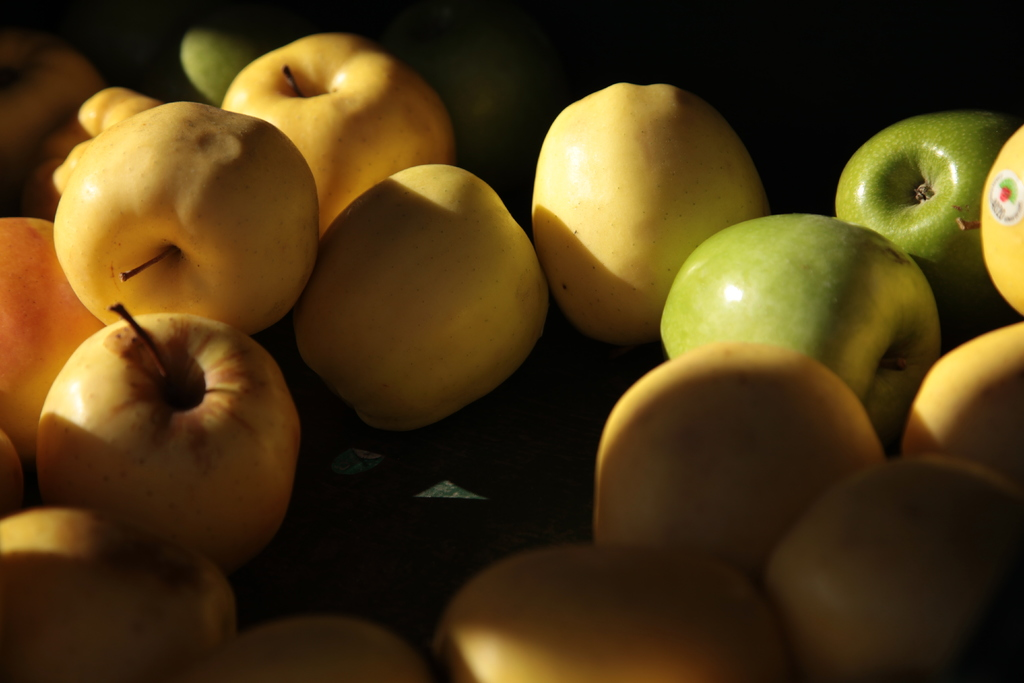Apple: (0, 26, 1023, 682), (51, 88, 323, 345), (765, 453, 1023, 682)
